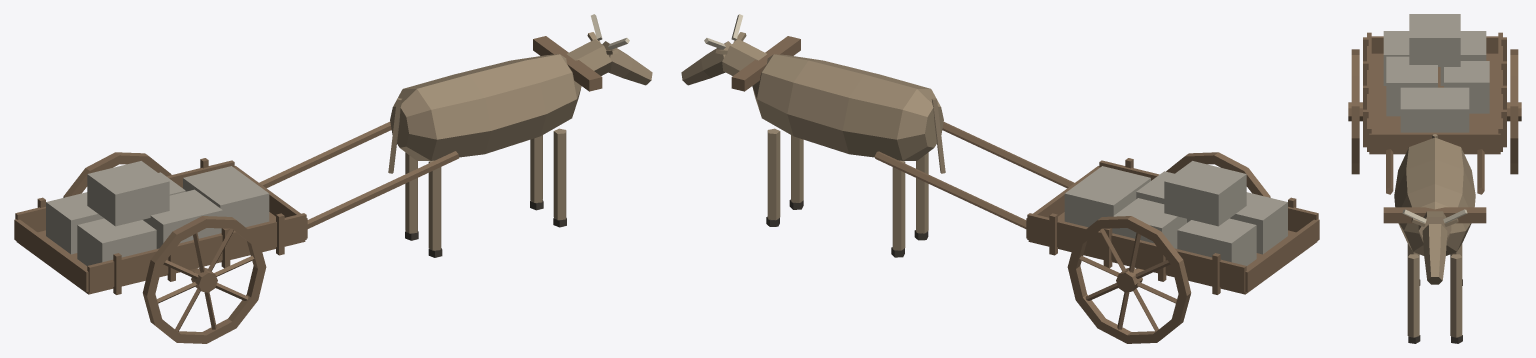
Rendered from stone_cart.glb.
The picture shows the model from 3 angles, left to right: view 1: azimuth 30°, elevation 25°; view 2: azimuth 150°, elevation 25°; view 3: azimuth 270°, elevation 25°; orthographic projection. The views are drawn at different scales.
Parts seen in each view (by area): view 1: stone_cart; view 2: stone_cart; view 3: stone_cart.
Boxes of the visible parts, x1=… form: stone_cart: x1=14, y1=14, x2=652, y2=343; stone_cart: x1=681, y1=14, x2=1319, y2=343; stone_cart: x1=1348, y1=14, x2=1521, y2=343.
Bounding box in the file's own units: 5.53 × 1.54 × 1.52.
